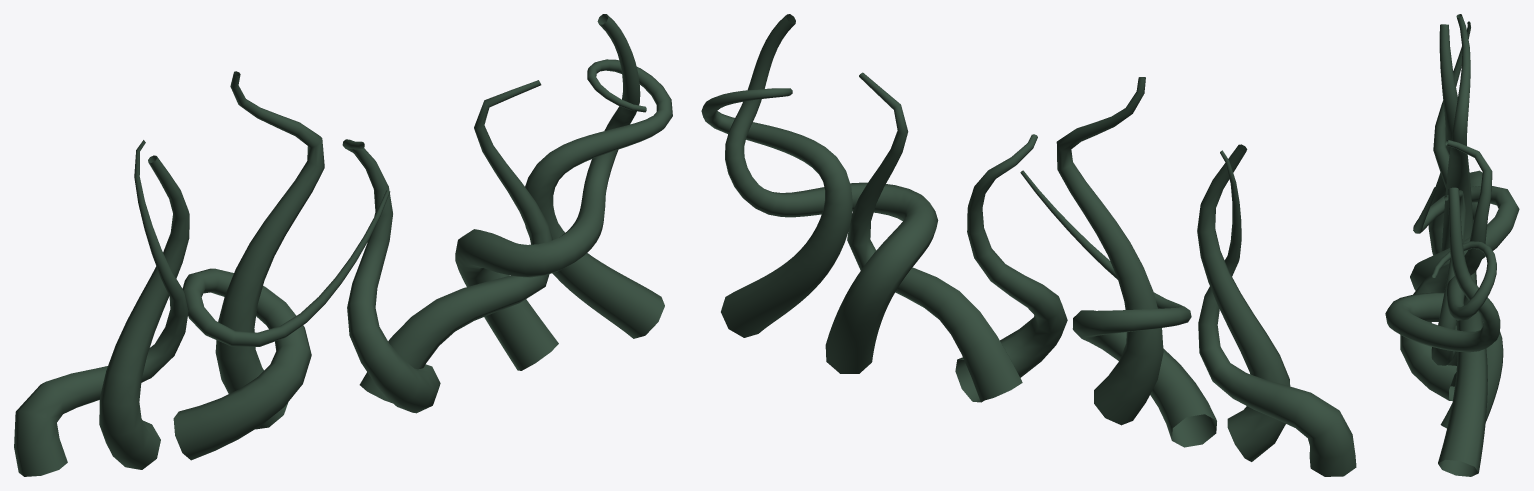
The model's file is enredaderas.fbx.
The picture shows the model from 3 angles, left to right: view 1: azimuth 30°, elevation 25°; view 2: azimuth 150°, elevation 25°; view 3: azimuth 270°, elevation 25°; orthographic projection. The views are drawn at different scales.
Parts seen in each view (by area): view 1: M_Enredadera11, M_Enredadera15, M_Enredadera16, M_Enredadera10, M_Enredadera14, M_Enredadera12, M_Enredadera9, M_Enredadera13; view 2: M_Enredadera15, M_Enredadera16, M_Enredadera12, M_Enredadera14, M_Enredadera9, M_Enredadera11, M_Enredadera10, M_Enredadera13; view 3: M_Enredadera16, M_Enredadera15, M_Enredadera13, M_Enredadera12, M_Enredadera11, M_Enredadera10, M_Enredadera9, M_Enredadera14.
Boxes of the visible parts, x1,y1,x2,y2 form: M_Enredadera11: (173, 190, 390, 460); M_Enredadera15: (455, 14, 640, 370); M_Enredadera16: (525, 59, 672, 338); M_Enredadera10: (99, 155, 189, 469); M_Enredadera14: (359, 80, 552, 403); M_Enredadera12: (215, 71, 324, 429); M_Enredadera9: (14, 140, 188, 476); M_Enredadera13: (342, 139, 440, 413); M_Enredadera15: (725, 14, 938, 373); M_Enredadera16: (701, 88, 852, 337); M_Enredadera12: (1056, 77, 1163, 425); M_Enredadera14: (847, 72, 1022, 401); M_Enredadera9: (1198, 150, 1356, 476); M_Enredadera11: (1020, 170, 1216, 447); M_Enredadera10: (1197, 144, 1290, 461); M_Enredadera13: (955, 134, 1067, 402); M_Enredadera16: (1432, 241, 1496, 476); M_Enredadera15: (1385, 187, 1503, 428); M_Enredadera13: (1400, 139, 1492, 400); M_Enredadera12: (1441, 14, 1476, 284); M_Enredadera11: (1410, 186, 1519, 290); M_Enredadera10: (1428, 24, 1457, 255); M_Enredadera9: (1433, 21, 1482, 222); M_Enredadera14: (1431, 190, 1465, 386).
Bounding box in the file's own units: 10.69 × 5.87 × 2.27.
